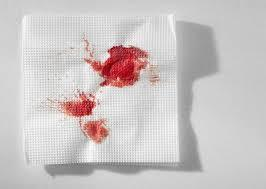cotton: (23, 15, 178, 163)
